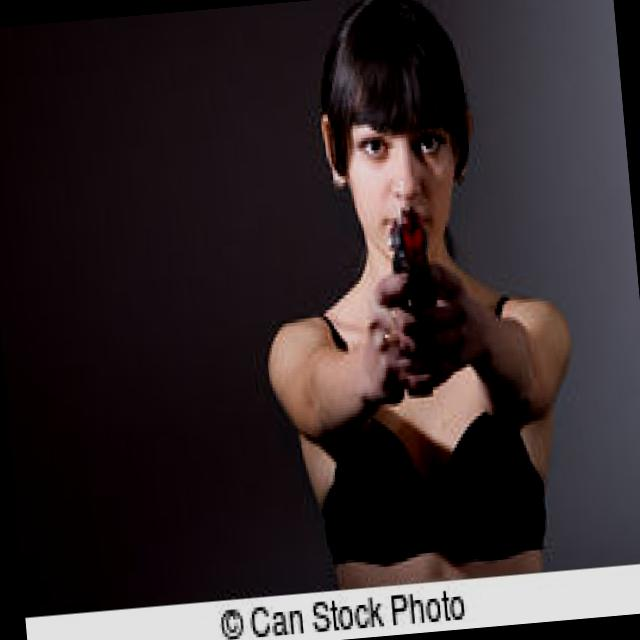handgun: (380, 198, 438, 376)
